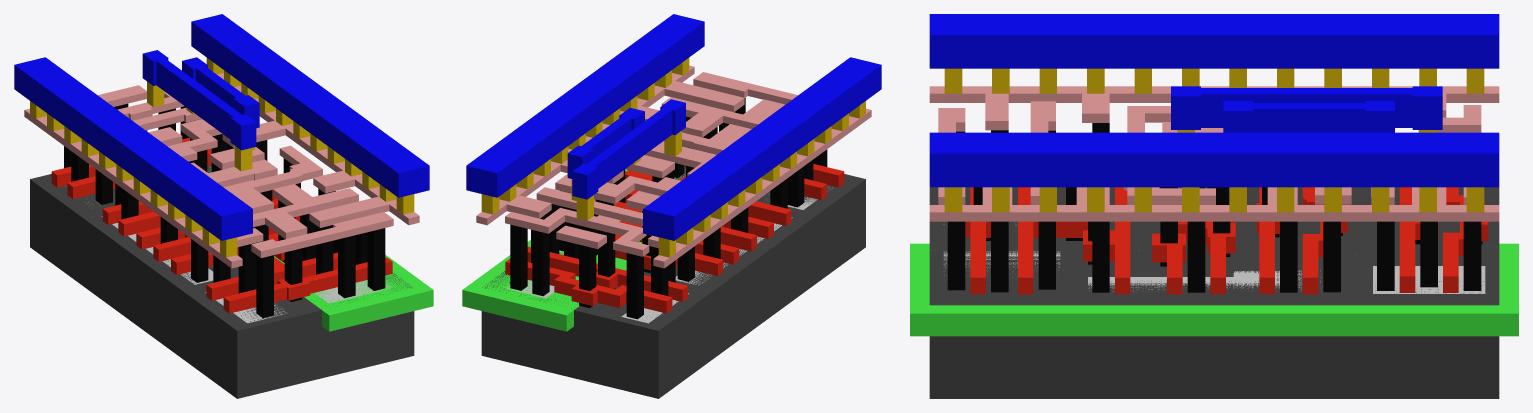
File: sky130_fd_sc_hd__dlxtn_1.obj
The picture shows the model from 3 angles, left to right: view 1: azimuth 30°, elevation 25°; view 2: azimuth 150°, elevation 25°; view 3: azimuth 270°, elevation 25°; orthographic projection. The views are drawn at different scales.
Parts seen in each view (by area): view 1: metal1, subs, li, licon, poly, mcon, nwell, diff, tap; view 2: metal1, subs, li, licon, poly, mcon, nwell, diff; view 3: metal1, subs, nwell, li, licon, poly, mcon, tap.
Boxes of the visible parts, box(x1,y1,x2,y2) form: metal1: box(14, 14, 429, 240); subs: box(30, 165, 414, 398); li: box(24, 73, 419, 268); licon: box(64, 103, 385, 317); poly: box(51, 137, 392, 313); mcon: box(30, 58, 414, 257); nwell: box(207, 166, 433, 331); diff: box(85, 202, 286, 323); tap: box(314, 280, 392, 303); metal1: box(466, 14, 881, 240); subs: box(481, 167, 865, 398); li: box(476, 65, 871, 268); licon: box(510, 98, 827, 319); poly: box(505, 164, 844, 313); mcon: box(481, 58, 865, 257); nwell: box(462, 169, 685, 331); diff: box(621, 186, 832, 323); metal1: box(929, 14, 1499, 187); subs: box(929, 187, 1499, 398); nwell: box(910, 243, 1518, 336); li: box(929, 86, 1499, 221); licon: box(947, 123, 1482, 292); poly: box(965, 187, 1488, 294); mcon: box(944, 68, 1484, 212); tap: box(943, 251, 1485, 293).
Bounding box in the file's own units: 3.2 × 2.74 × 5.9.
